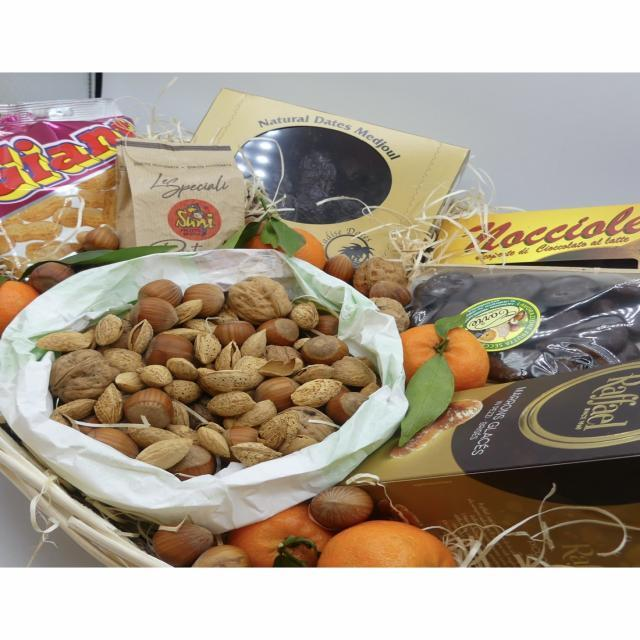Frutta secca: (35, 286, 367, 454)
